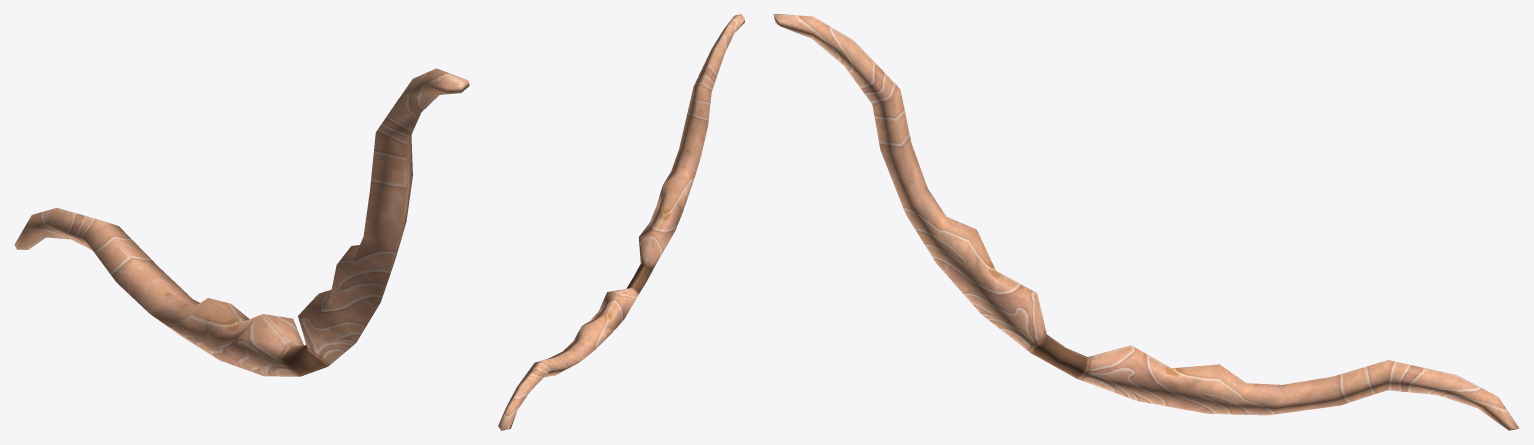
The model's file is rangedweapon-female-ironweapons.glb.
3 renders of one model, left to right at view 1: azimuth 30°, elevation 25°; view 2: azimuth 150°, elevation 25°; view 3: azimuth 270°, elevation 25°, orthographic. The views are drawn at different scales.
Size of the model in its own units: 0.1127 by 0.8604 by 1.42.
1 material, 1 textured.
